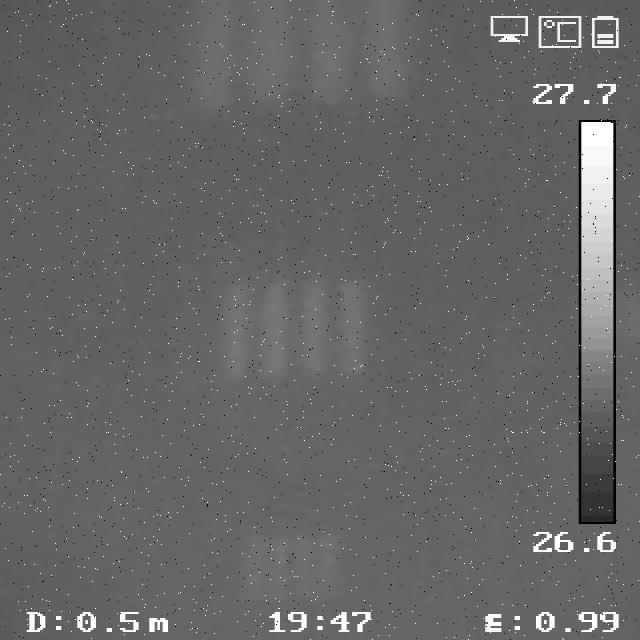threshold 4-bar target: (182, 1, 410, 99), (226, 278, 366, 376), (247, 535, 337, 602)
